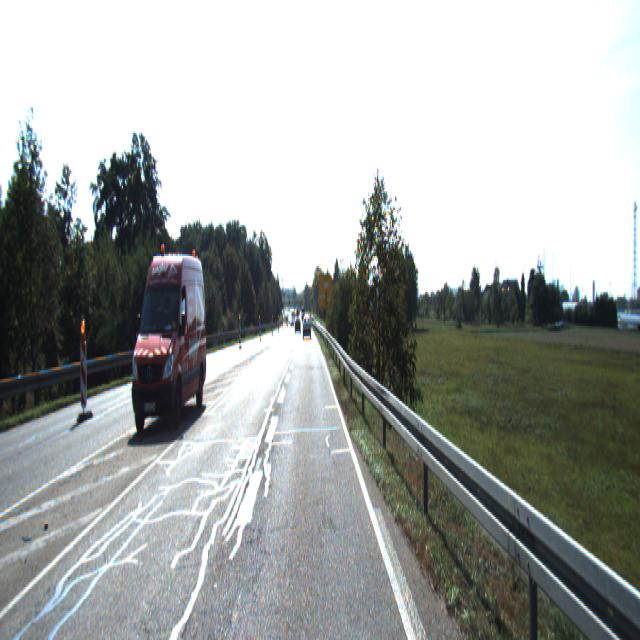Car: (126, 250, 204, 453), (303, 319, 311, 341)
